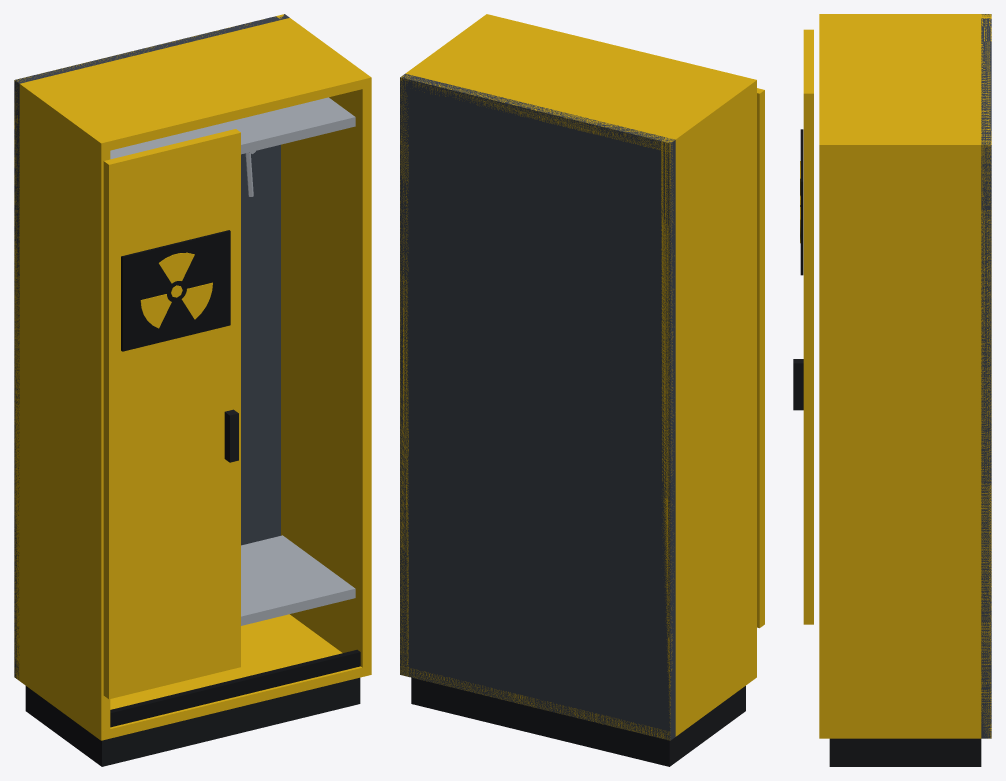
The model's file is safety_hazmat_cabinet.glb.
3 renders of one model, left to right at view 1: azimuth 30°, elevation 25°; view 2: azimuth 150°, elevation 25°; view 3: azimuth 270°, elevation 25°, orthographic.
Visible parts, largest first — view 1: safety_hazmat_cabinet; view 2: safety_hazmat_cabinet; view 3: safety_hazmat_cabinet.
Part boxes in pixels (left/top/right/bottom): safety_hazmat_cabinet: left=14, top=14, right=371, bottom=766; safety_hazmat_cabinet: left=400, top=14, right=764, bottom=766; safety_hazmat_cabinet: left=793, top=14, right=991, bottom=766.
Bounding box in the file's own units: 0.9 × 2 × 0.575.
